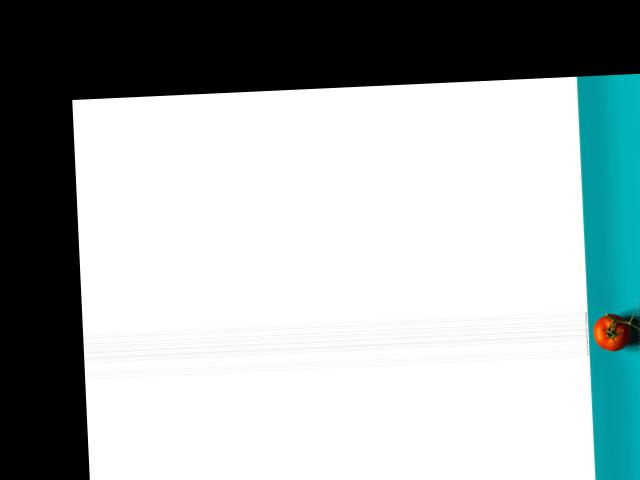tomato: (593, 312, 631, 351)
